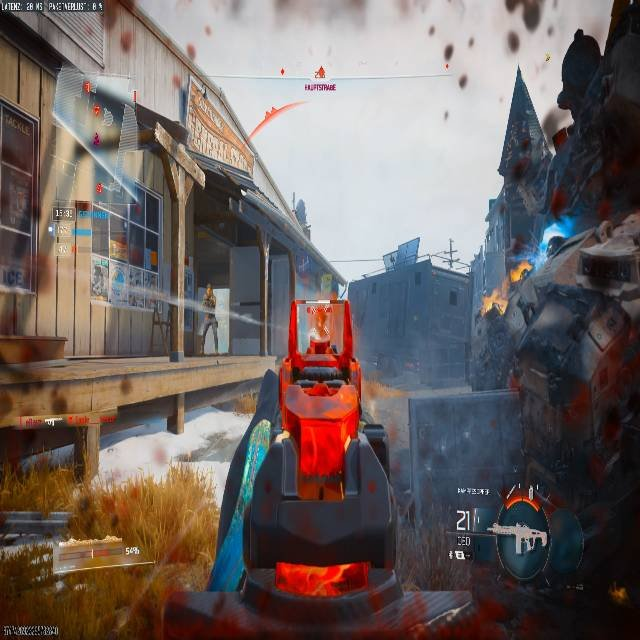head: (206, 285, 214, 296)
player: (201, 286, 218, 337)
